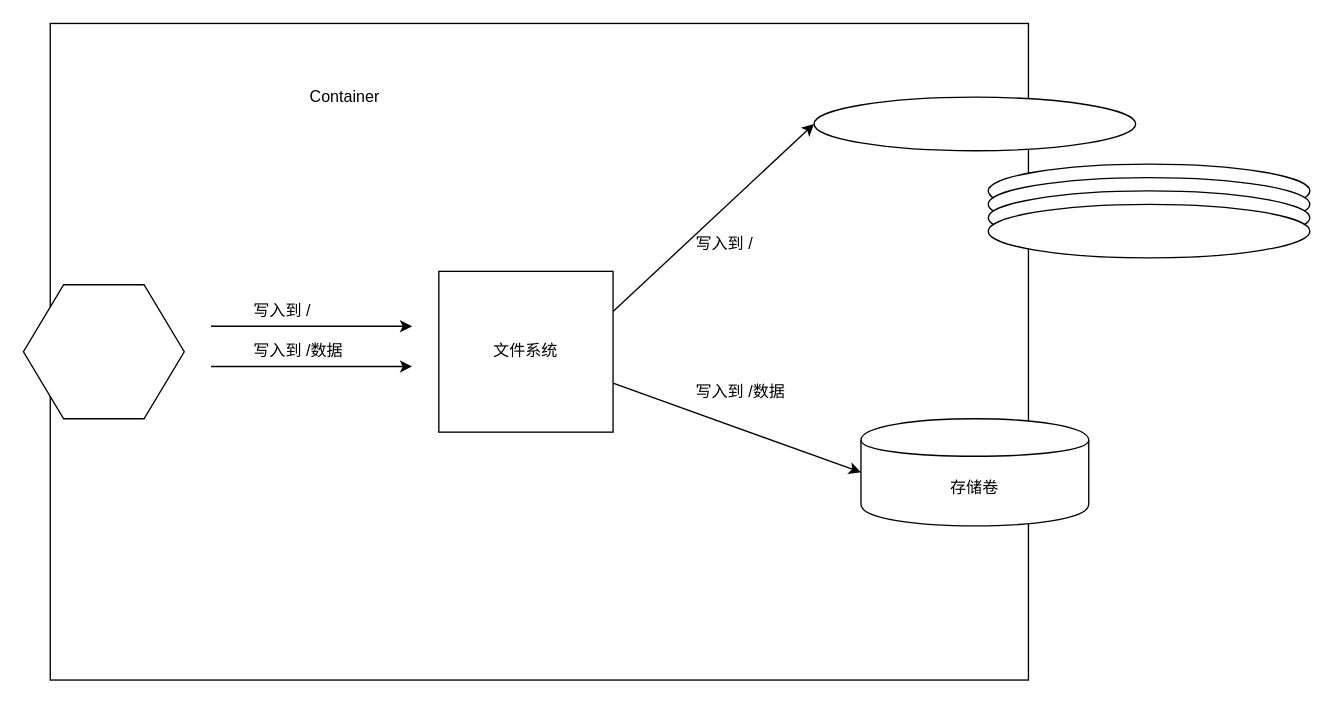
The diagram is 1333 pixels wide and 704 high, and some of its shapes have lost their labels. The shapes that lost their labels are listed below. From the top down, each one's box as (x1, y1, x2, y2) in pixels, then its label:
(813, 96, 1136, 151): 分层
(22, 283, 184, 419): 程序
